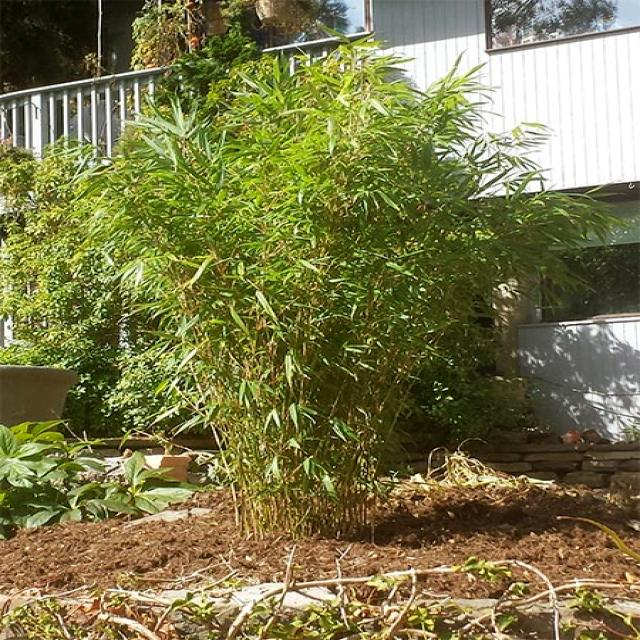Clumping: (111, 26, 516, 566)
